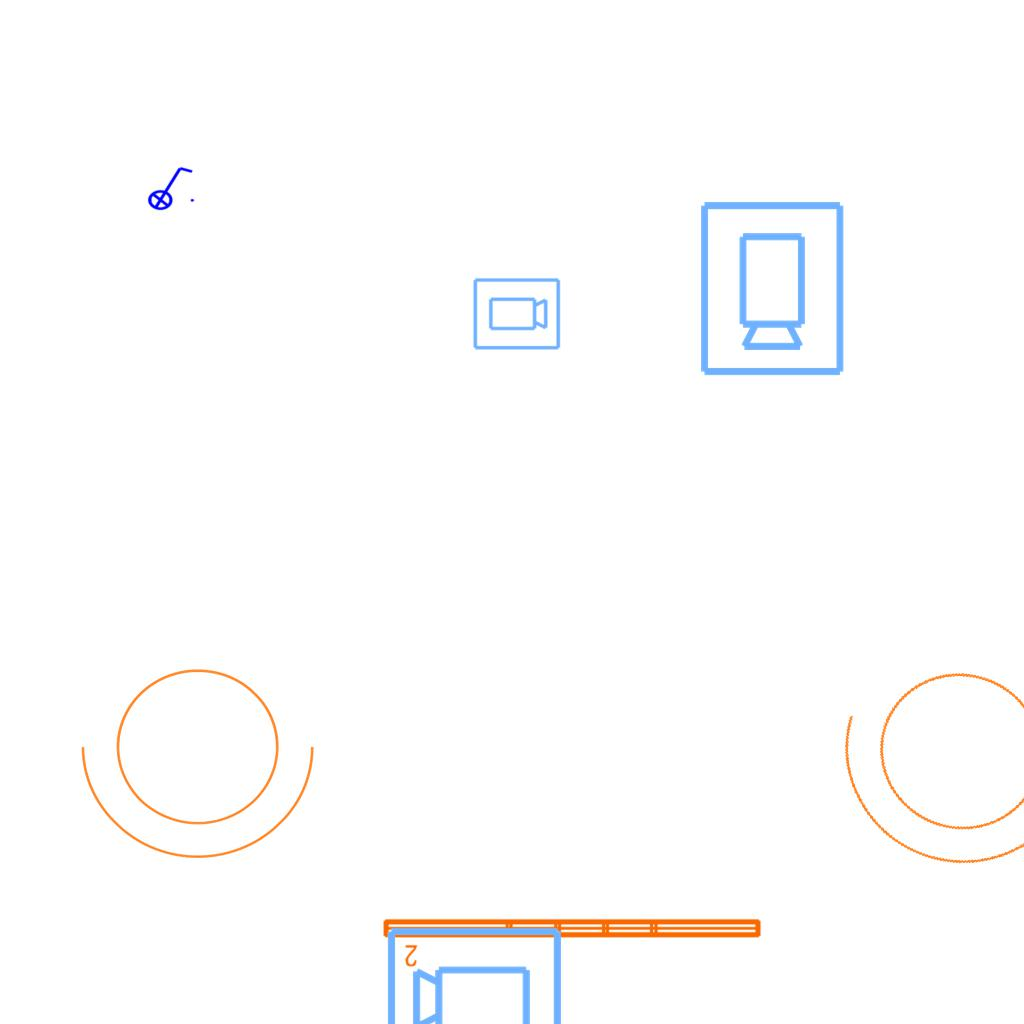Ambulanz_Pendelleuchte_LED: (379, 913, 766, 969)
Ausschalter_beleuchtet: (141, 163, 197, 211)
KFO_Kamera_mit_Festobjektiv: (694, 197, 848, 379), (384, 921, 566, 1024), (471, 276, 562, 353)
Scheinwerfer_fuer_Alarmbeleuchtung: (803, 614, 1024, 911), (72, 644, 336, 869)
